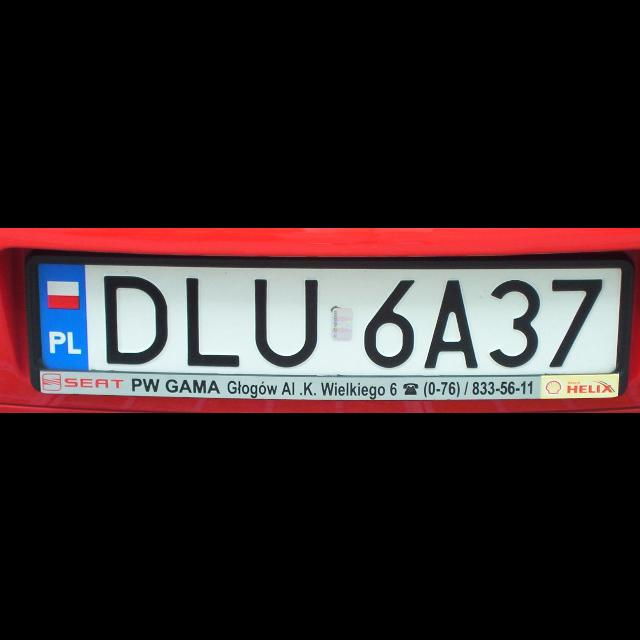pl_license_plate: (32, 258, 624, 374)
